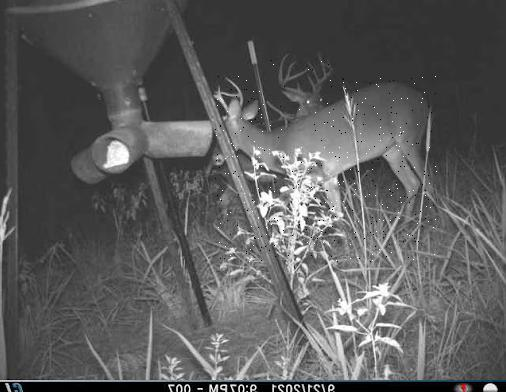Deer: (215, 76, 437, 262), (271, 51, 335, 121)
